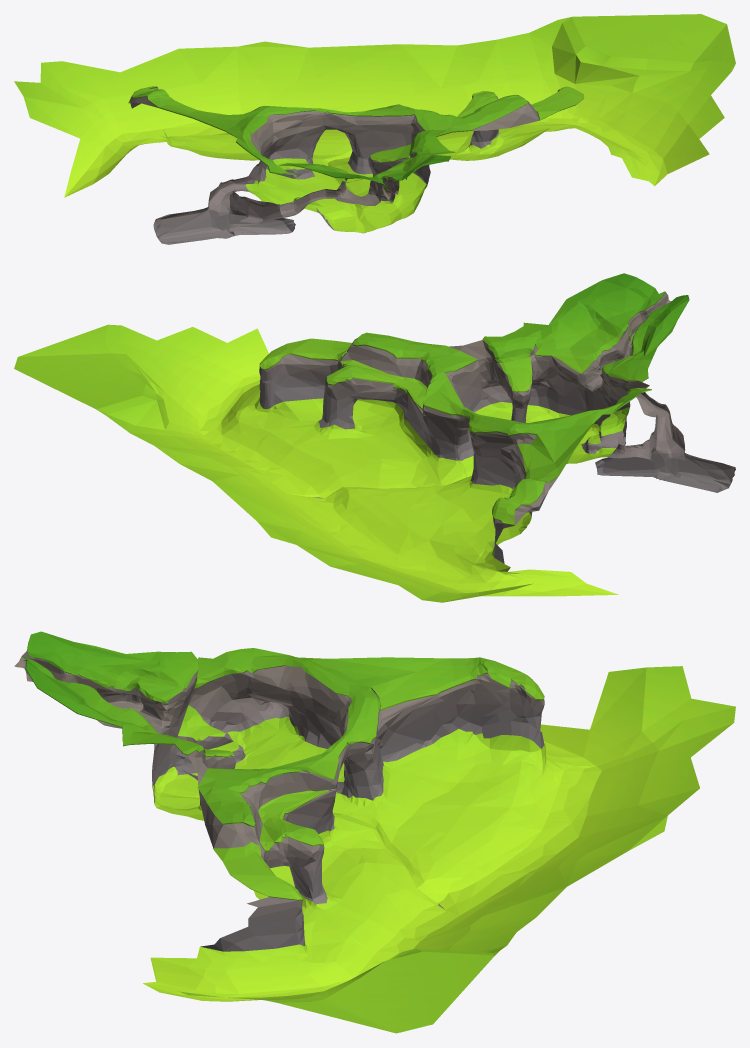
3 renders of one model, top to bottom at view 1: azimuth 30°, elevation 25°; view 2: azimuth 150°, elevation 25°; view 3: azimuth 270°, elevation 25°, orthographic. The views are drawn at different scales.
Parts seen in each view (by area): view 1: BASEMESH_FOREST; view 2: BASEMESH_FOREST; view 3: BASEMESH_FOREST.
Part boxes in pixels (x1,y1,x2,y2): BASEMESH_FOREST: (14, 14, 735, 244); BASEMESH_FOREST: (14, 273, 735, 602); BASEMESH_FOREST: (14, 631, 735, 1033).
Size of the model in its own units: 436 by 85.34 by 347.
Materials: 1 (1 with a texture image).
